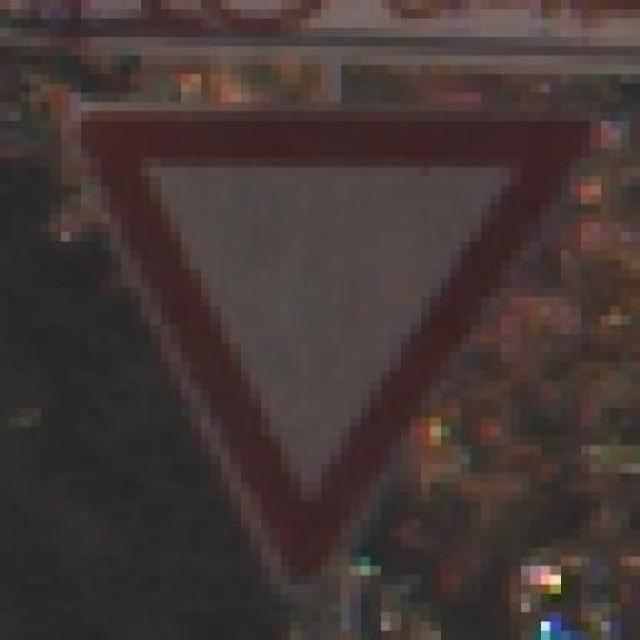Give Way: (80, 89, 591, 591)
